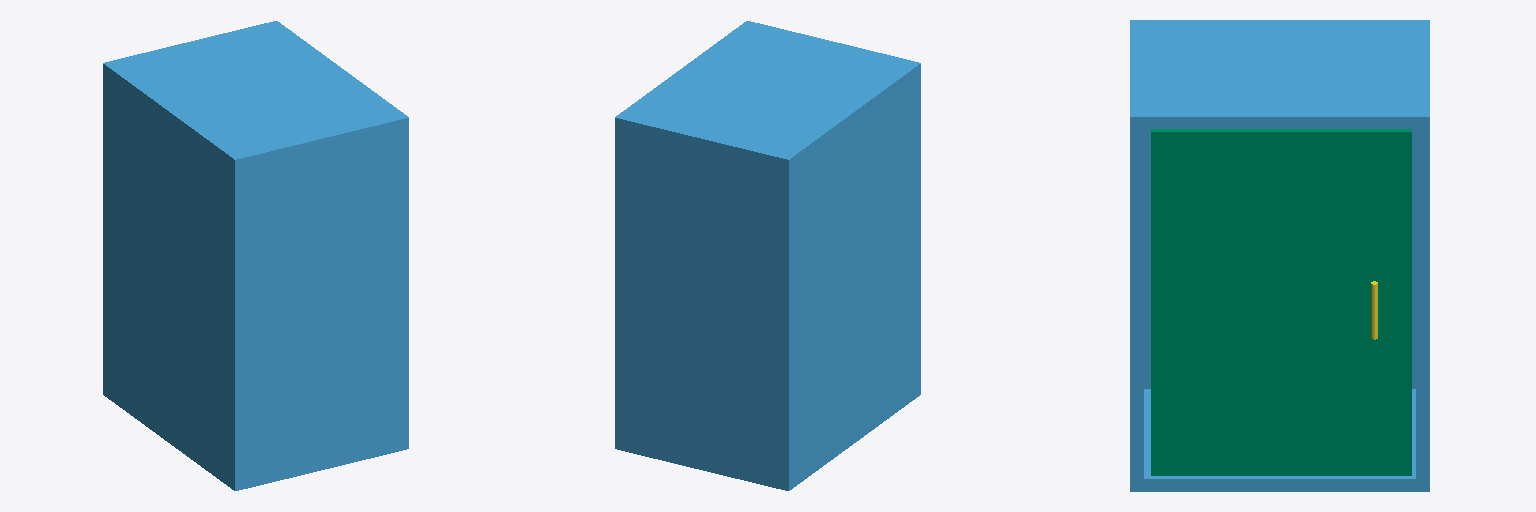
robot.urdf — my_cabinet:
<?xml version="1.0" ?>
<robot name="my_cabinet">
	<link name="world"/>
	<joint name="virtual_joint" type="fixed">
		<parent link="world"/>
		<child link="base_cabinet_link"/>
		<origin xyz="0.0 0.0 0.0" rpy="0.0 0.0 0.0"/>
	</joint>
	<link name="base_cabinet_link">
		<visual>
			<origin xyz="0.0 -0.0025 -0.2637991548900704" rpy="0.0 0.0 0.0"/>
			<geometry>
				<box size="0.3 0.39541913171358617 0.018"/>
			</geometry>
		</visual>
		<collision name="base_cabinet_link_collision_0">
			<origin xyz="0.0 -0.0025 -0.2637991548900704" rpy="0.0 0.0 0.0"/>
			<geometry>
				<box size="0.3 0.39541913171358617 0.018"/>
			</geometry>
		</collision>
		<visual>
			<origin xyz="0.0 0.1862095658567931 0.0" rpy="0.0 0.0 0.0"/>
			<geometry>
				<box size="0.3 0.018 0.5455983097801408"/>
			</geometry>
		</visual>
		<collision name="base_cabinet_link_collision_1">
			<origin xyz="0.0 0.1862095658567931 0.0" rpy="0.0 0.0 0.0"/>
			<geometry>
				<box size="0.3 0.018 0.5455983097801408"/>
			</geometry>
		</collision>
		<visual>
			<origin xyz="0.0 -0.1912095658567931 0.0" rpy="0.0 0.0 0.0"/>
			<geometry>
				<box size="0.3 0.018 0.5455983097801408"/>
			</geometry>
		</visual>
		<collision name="base_cabinet_link_collision_2">
			<origin xyz="0.0 -0.1912095658567931 0.0" rpy="0.0 0.0 0.0"/>
			<geometry>
				<box size="0.3 0.018 0.5455983097801408"/>
			</geometry>
		</collision>
		<visual>
			<origin xyz="0.0 -0.0025 0.2637991548900704" rpy="0.0 0.0 0.0"/>
			<geometry>
				<box size="0.3 0.39541913171358617 0.018"/>
			</geometry>
		</visual>
		<collision name="base_cabinet_link_collision_3">
			<origin xyz="0.0 -0.0025 0.2637991548900704" rpy="0.0 0.0 0.0"/>
			<geometry>
				<box size="0.3 0.39541913171358617 0.018"/>
			</geometry>
		</collision>
		<visual>
			<origin xyz="-0.141 -0.0025 0.0" rpy="0.0 0.0 0.0"/>
			<geometry>
				<box size="0.018 0.39541913171358617 0.5455983097801408"/>
			</geometry>
		</visual>
		<collision name="base_cabinet_link_collision_4">
			<origin xyz="-0.141 -0.0025 0.0" rpy="0.0 0.0 0.0"/>
			<geometry>
				<box size="0.018 0.39541913171358617 0.5455983097801408"/>
			</geometry>
		</collision>
		<inertial>
			<mass value="0.200000"/>
			<inertia ixx="0.007567" ixy="0.0" ixz="0.0" iyy="0.006461" iyz="0.0" izz="0.004106"/>
		</inertial>
	</link>
	<link name="door_link">
		<visual>
			<origin xyz="0.0 -0.1722095658567931 0.0"/>
			<geometry>
				<box size="0.018 0.3444191317135862 0.49959830978014075"/>
			</geometry>
		</visual>
		<collision name="door_link_collision">
			<origin xyz="0.0 -0.1722095658567931 0.0"/>
			<geometry>
				<box size="0.018 0.3444191317135862 0.49959830978014075"/>
			</geometry>
		</collision>
		<inertial>
			<mass value="0.200000"/>
			<inertia ixx="0.006137" ixy="0.0" ixz="0.0" iyy="0.004165" iyz="0.0" izz="0.001982"/>
		</inertial>
	</link>
	<joint name="door_joint" type="revolute">
		<origin xyz="0.141 -0.1722095658567931 0.0" rpy="0.000000 -0.000000 3.141593"/>
		<axis xyz="0 0 1"/>
		<parent link="base_cabinet_link"/>
		<child link="door_link"/>
		<limit effort="50" lower="-1.658062789394613" upper="0" velocity="10"/>
		<dynamics friction="3.5" damping="3.5"/>
	</joint>
	<link name="handle_link">
		<visual>
			<origin xyz="0.0 0.0 0.0" rpy="0.0 0.0 0.0"/>
			<geometry>
				<cylinder length="0.08" radius="0.005"/>
			</geometry>
		</visual>
		<collision name="handle_link_collision_0">
			<origin xyz="0.0 0.0 0.0" rpy="0.0 0.0 0.0"/>
			<geometry>
				<cylinder length="0.08" radius="0.005"/>
			</geometry>
		</collision>
		<visual>
			<origin xyz="-0.01 0.0 0.02" rpy="0.0 1.5707963267948966 0.0"/>
			<geometry>
				<cylinder length="0.02" radius="0.003"/>
			</geometry>
		</visual>
		<collision name="handle_link_collision_1">
			<origin xyz="-0.01 0.0 0.02" rpy="0.0 1.5707963267948966 0.0"/>
			<geometry>
				<cylinder length="0.01" radius="0.003"/>
			</geometry>
		</collision>
		<visual>
			<origin xyz="-0.01 0.0 -0.02" rpy="0.0 1.5707963267948966 0.0"/>
			<geometry>
				<cylinder length="0.02" radius="0.003"/>
			</geometry>
		</visual>
		<collision name="handle_link_collision_2">
			<origin xyz="-0.01 0.0 -0.02" rpy="0.0 1.5707963267948966 0.0"/>
			<geometry>
				<cylinder length="0.02" radius="0.003"/>
			</geometry>
		</collision>
		<inertial>
			<mass value="0.050000"/>
			<inertia ixx="0.000027" ixy="0.0" ixz="0.0" iyy="0.000029" iyz="0.0" izz="0.000003"/>
		</inertial>
	</link>
	<joint name="handle_joint" type="fixed">
		<origin xyz="-0.028999999999999998 -0.2944191317135862 0.0" rpy="0.000000 -0.000000 3.141593"/>
		<parent link="door_link"/>
		<child link="handle_link"/>
	</joint>
	<gazebo reference="base_cabinet_link">
		<sensor name="main_sensor" type="contact">
			<selfCollide>true</selfCollide>
			<alwaysOn>true</alwaysOn>
			<updateRate>5.0</updateRate>
			<material>Gazebo/Red</material>
			<contact>
				<collision>base_cabinet_link_collision_0_collision</collision>
				<collision>base_cabinet_link_collision_1_collision</collision>
				<collision>base_cabinet_link_collision_2_collision</collision>
				<collision>base_cabinet_link_collision_3_collision</collision>
				<collision>base_cabinet_link_collision_4_collision</collision>
			</contact>
			<plugin name="gazebo_ros_bumper_controller" filename="libgazebo_ros_bumper.so">
				<bumperTopicName>/contact</bumperTopicName>
				<frameName>world</frameName>
			</plugin>
		</sensor>
	</gazebo>
	<gazebo reference="door_link">
		<sensor name="main_sensor" type="contact">
			<selfCollide>true</selfCollide>
			<alwaysOn>true</alwaysOn>
			<updateRate>5.0</updateRate>
			<material>Gazebo/Red</material>
			<contact>
				<collision>door_link_collision_collision</collision>
			</contact>
			<plugin name="gazebo_ros_bumper_controller" filename="libgazebo_ros_bumper.so">
				<bumperTopicName>/contact_door</bumperTopicName>
				<frameName>contact_door</frameName>
			</plugin>
		</sensor>
	</gazebo>
	<gazebo reference="door_link">
		<mu>3.0</mu>
		<mu2>3.0</mu2>
		<kp>10000000</kp>
		<kd>100</kd>
	</gazebo>
</robot>

--- Render facts (derived) ---
The picture shows the robot from 3 angles, left to right: view 1: azimuth 30°, elevation 25°; view 2: azimuth 150°, elevation 25°; view 3: azimuth 270°, elevation 25°; orthographic projection.
Robot: my_cabinet — 4 links, 3 joints (1 revolute, 2 fixed); root link world; default pose: all joints at 0.
Visible links, largest first — view 1: base_cabinet_link; view 2: base_cabinet_link; view 3: door_link, base_cabinet_link.
Boxes of the visible links, <box> form: base_cabinet_link: <box>103,21,408,490</box>; base_cabinet_link: <box>615,21,920,490</box>; door_link: <box>1151,129,1411,475</box>; base_cabinet_link: <box>1130,20,1429,491</box>.
Size in the robot's own frame: 0.325 by 0.3954 by 0.5456 metres.
Geometry: primitives only (box / cylinder / sphere), no mesh files.
